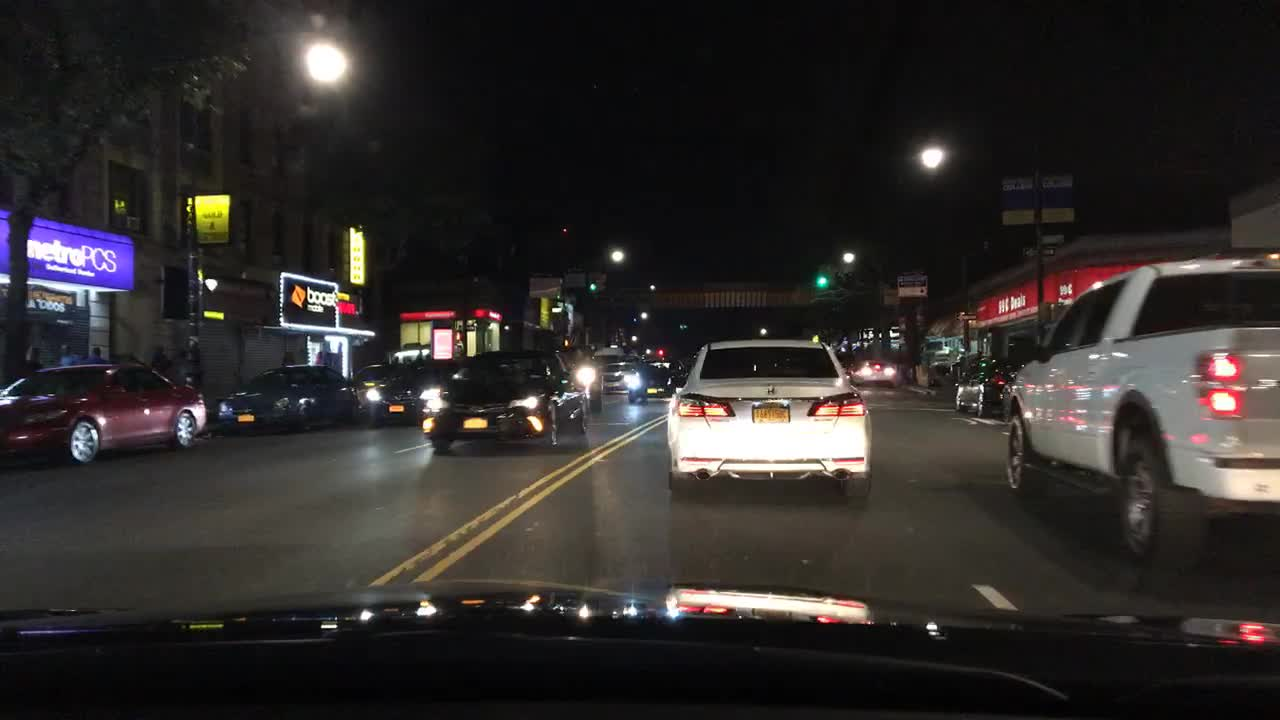car: (1002, 260, 1276, 558), (667, 338, 870, 495), (0, 365, 205, 460), (429, 344, 589, 448), (218, 362, 356, 429), (358, 363, 417, 423), (952, 362, 1014, 415), (570, 359, 602, 408), (644, 354, 684, 391), (850, 357, 897, 384), (922, 354, 949, 394), (419, 368, 443, 412), (391, 342, 432, 359), (602, 363, 624, 388)
motor: (628, 369, 645, 402)
person: (58, 342, 79, 363), (84, 346, 106, 363), (150, 344, 169, 363), (31, 346, 41, 366), (281, 350, 294, 363), (314, 349, 325, 363)
rider: (628, 357, 644, 381)
traffic light: (816, 274, 825, 286), (588, 282, 597, 292)
traffic sign: (1001, 175, 1073, 221), (196, 195, 228, 240), (895, 274, 926, 295), (1023, 246, 1053, 254), (565, 273, 584, 285), (203, 311, 222, 318), (955, 314, 975, 318)
